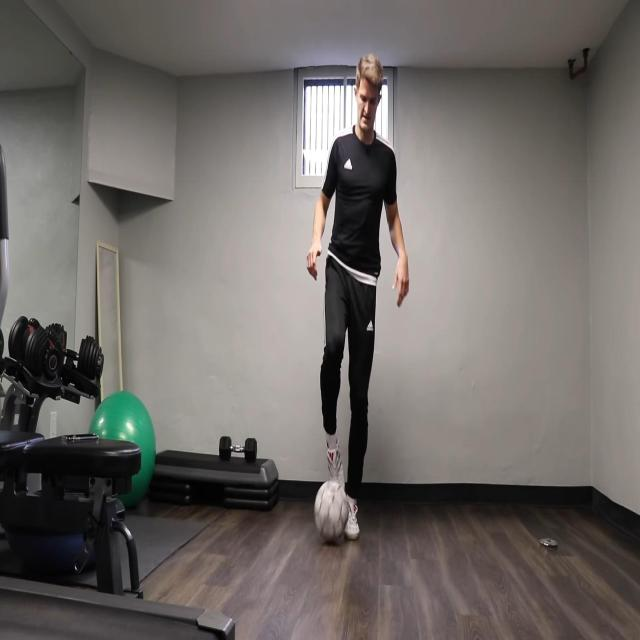Soccer Ball: (314, 480, 349, 543)
